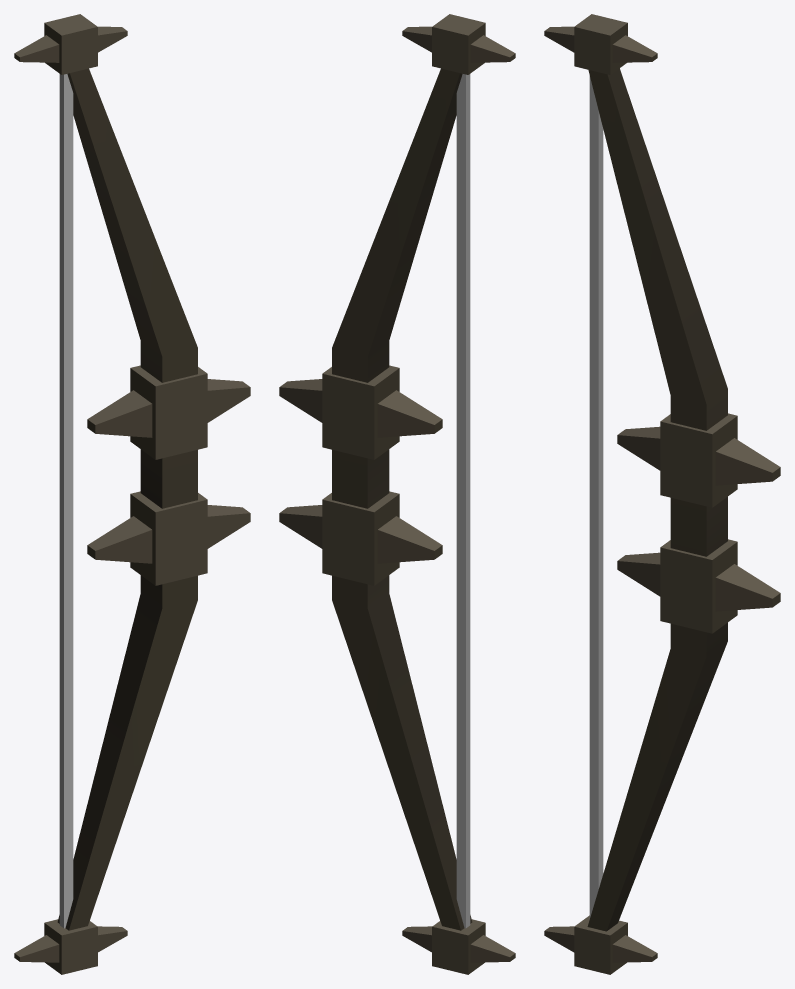
The model's file is SF_Wep_Undead_Bow_01.fbx.
3 views of the same model, side by side, from view 1: azimuth 30°, elevation 25°; view 2: azimuth 150°, elevation 25°; view 3: azimuth 330°, elevation 25° (orthographic).
Parts seen in each view (by area): view 1: SF_Wep_Undead_Bow_01; view 2: SF_Wep_Undead_Bow_01; view 3: SF_Wep_Undead_Bow_01.
Boxes of the visible parts, left/top/right/bottom form: SF_Wep_Undead_Bow_01: left=14, top=14, right=250, bottom=974; SF_Wep_Undead_Bow_01: left=279, top=14, right=515, bottom=974; SF_Wep_Undead_Bow_01: left=544, top=14, right=780, bottom=974.
Size of the model in its own units: 0.7043 by 2.76 by 0.1343.
